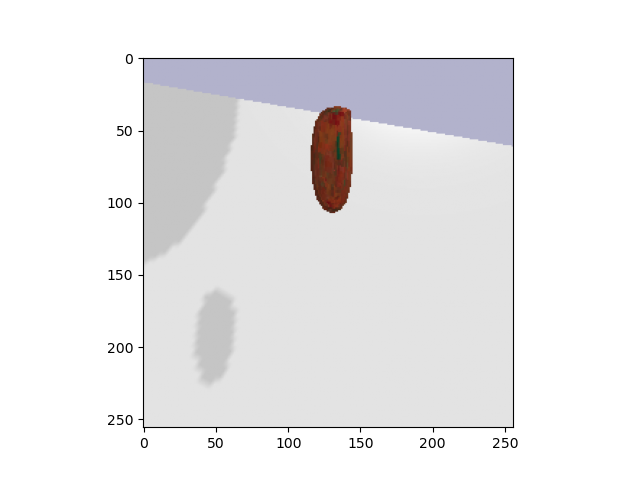v249b387_106: (303, 99, 367, 221)
